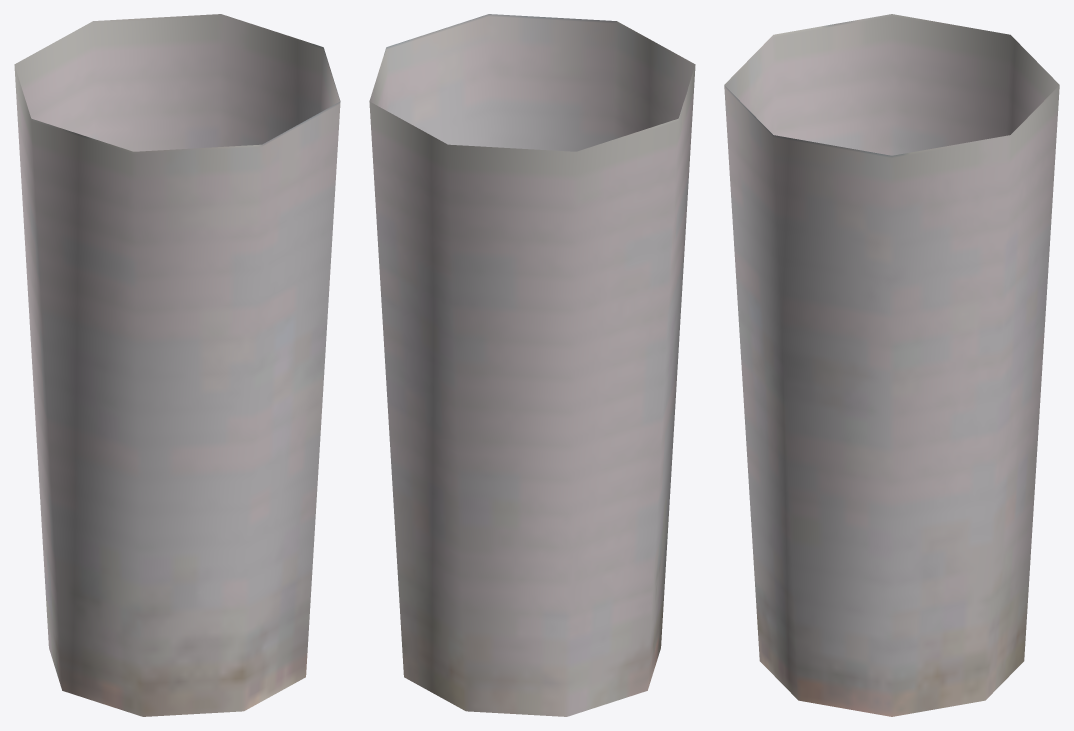
File: edb_con_tato_cup_s5_l1.fbx
3 views of the same model, side by side, from view 1: azimuth 30°, elevation 25°; view 2: azimuth 150°, elevation 25°; view 3: azimuth 270°, elevation 25° (orthographic).
Parts seen in each view (by area): view 1: mesh_node; view 2: mesh_node; view 3: mesh_node.
Part boxes in pixels (bbox=[...]): mesh_node: bbox=[14, 14, 340, 716]; mesh_node: bbox=[369, 14, 695, 716]; mesh_node: bbox=[724, 14, 1059, 716].
Bounding box in the file's own units: 0.1546 × 0.2929 × 0.1546.
